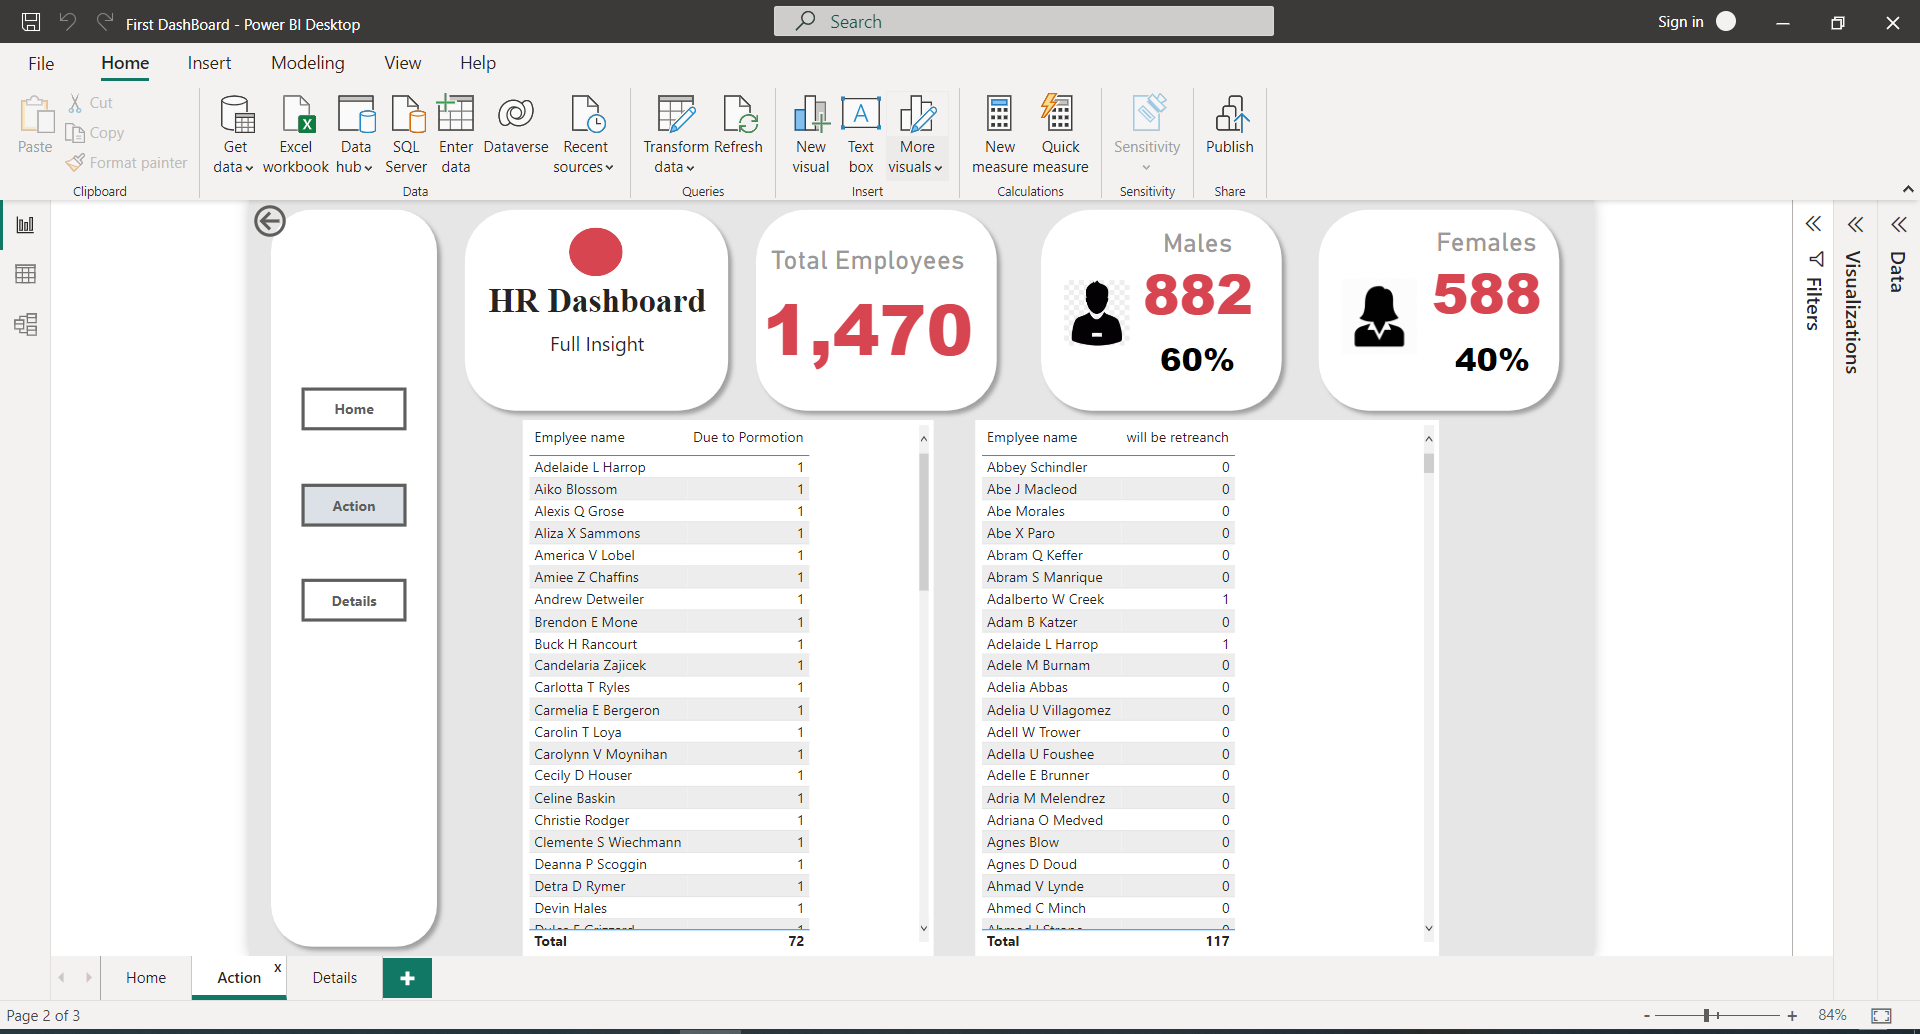

This screenshot's page, from the dashboard's own definition file:
{"tool":"powerbi","page":{"name":"Action","canvas":[1280,720],"ordinal":1},"visuals":[{"type":"shape","box":[11.9,0,176.1,720],"z":0},{"type":"shape","box":[1009.2,0,247.5,209.5],"z":1000},{"type":"shape","box":[745,0,247.5,209.5],"z":2000},{"type":"shape","box":[196.4,0,269,209.5],"z":3000},{"type":"shape","box":[473.7,0,247.5,209.5],"z":4000},{"type":"textbox","box":[213,72.6,236.8,64.3],"z":5000},{"type":"textbox","box":[213,119,236.8,54.7],"z":6000},{"type":"shape","box":[304.7,26.2,51.2,46.4],"z":7000},{"type":"card","title":"Total Employees","fields":{"Values":["All Measure.Total Emp"]},"box":[482,42.8,214.2,123.8],"z":8000},{"type":"card","title":" Males","fields":{"Values":["All Measure.Male"]},"box":[843.8,26.2,119,94],"z":9000},{"type":"card","title":" Males","fields":{"Values":["All Measure.% male"]},"box":[830.7,104.7,145.2,94],"z":10000},{"type":"card","title":" Females","fields":{"Values":["All Measure.Female"]},"box":[1118.7,25,119,94],"z":11000},{"type":"card","title":" Males","fields":{"Values":["All Measure.% female"]},"box":[1111.5,104.7,145.2,94],"z":12000},{"type":"image","box":[1033,69,85.7,83.3],"z":13000},{"type":"image","box":[771.2,69,72.6,77.4],"z":14000},{"type":"actionButton","box":[0,0,100,40],"z":15000},{"type":"tableEx","fields":{"Values":["HR employee data.Emplyee name","All Measure.Due to Pormotion"]},"box":[260.6,209.5,391.5,510.5],"z":16000},{"type":"tableEx","fields":{"Values":["HR employee data.Emplyee name","All Measure.will be retreanch"]},"box":[691.4,209.5,441.5,510.5],"z":17000},{"type":"actionButton","box":[50,178.5,100,40.5],"z":18000},{"type":"actionButton","box":[50,270.1,100,40.5],"z":19000},{"type":"actionButton","box":[50,360.6,100,40.5],"z":20000}]}

Visuals, with their boxes on the page's 1280x720 design canvas (x1, y1, x2, y2). These are canvas units, not pixel positions in the 1920x1034 screenshot, which may show the page scaled, cropped or inside an application window:
shape: 12:0:188:720
shape: 1009:0:1257:210
shape: 745:0:992:210
shape: 196:0:465:210
shape: 474:0:721:210
textbox: 213:73:450:137
textbox: 213:119:450:174
shape: 305:26:356:73
"Total Employees" card: 482:43:696:167
" Males" card: 844:26:963:120
" Males" card: 831:105:976:199
" Females" card: 1119:25:1238:119
" Males" card: 1112:105:1257:199
image: 1033:69:1119:152
image: 771:69:844:146
actionButton: 0:0:100:40
tableEx - HR employee data.Emplyee name x All Measure.Due to Pormotion: 261:210:652:720
tableEx - HR employee data.Emplyee name x All Measure.will be retreanch: 691:210:1133:720
actionButton: 50:178:150:219
actionButton: 50:270:150:311
actionButton: 50:361:150:401
